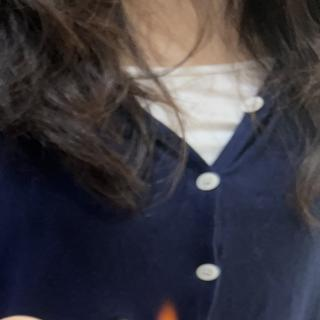fire: (153, 302, 182, 320)
